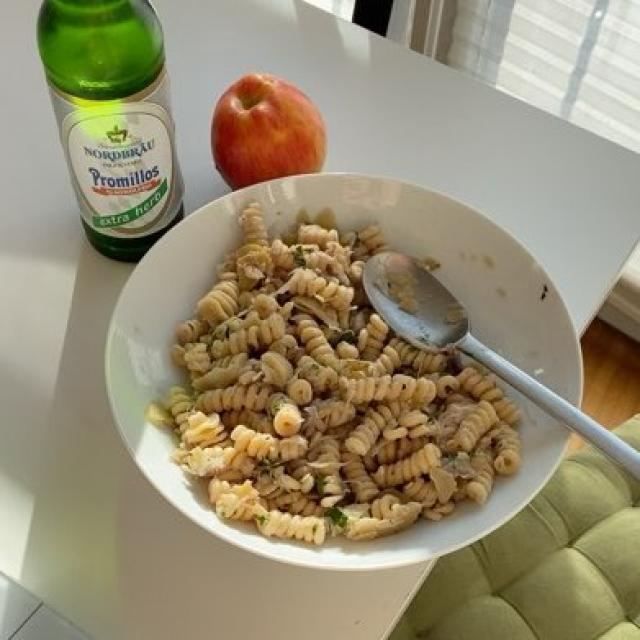apple: (215, 75, 325, 188)
beer: (45, 6, 184, 255)
pasta-twist: (177, 214, 526, 549)
